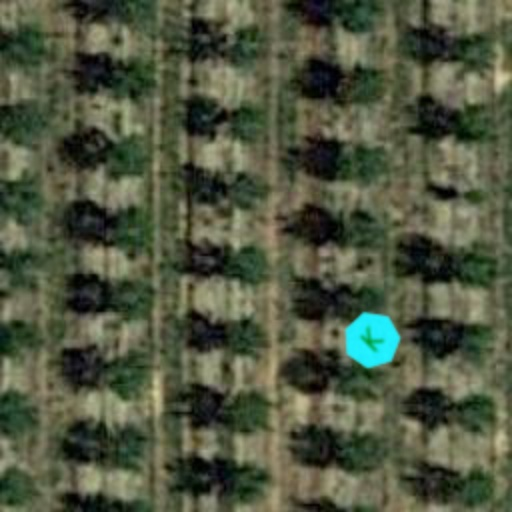heptagon: (330, 298, 414, 382)
